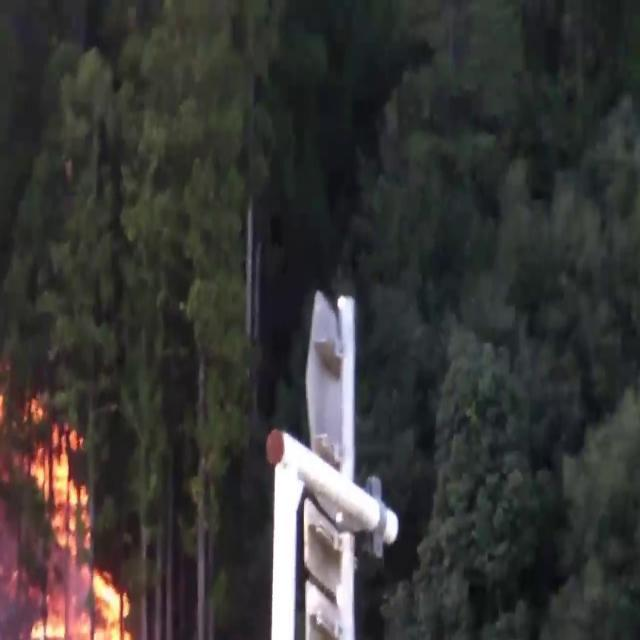Fire: (23, 401, 136, 639)
